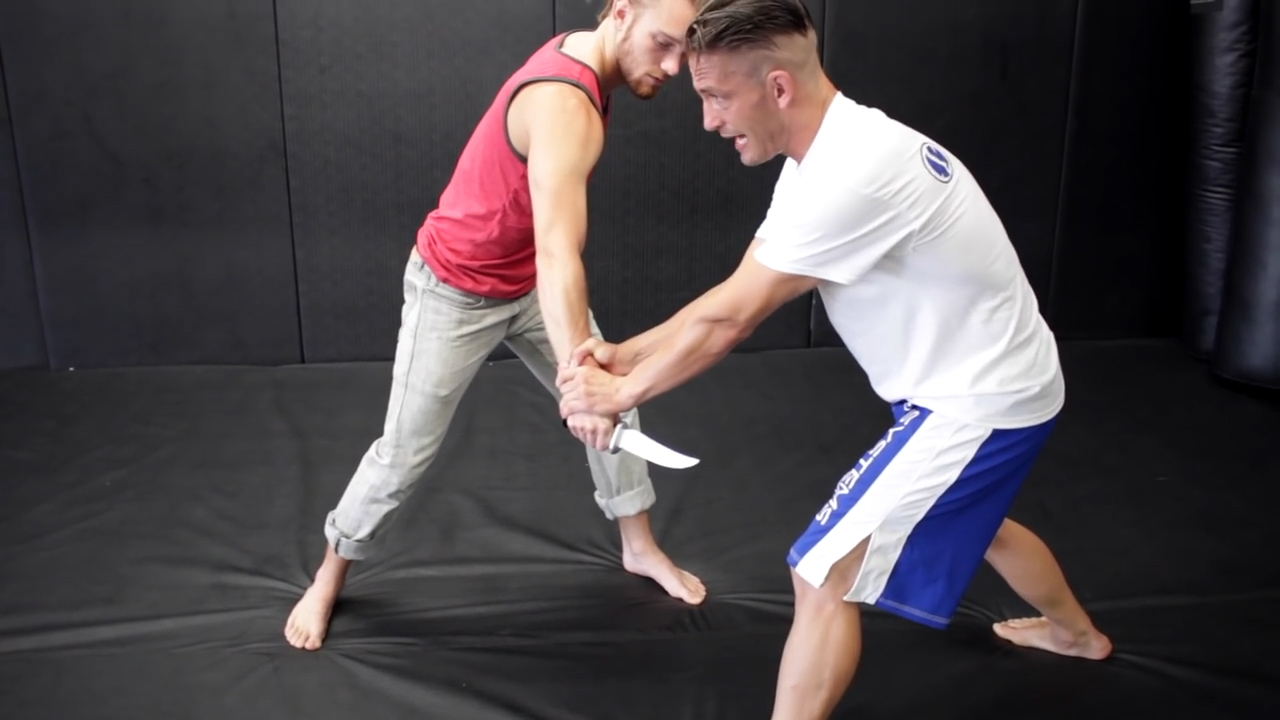knife: (557, 411, 706, 479)
